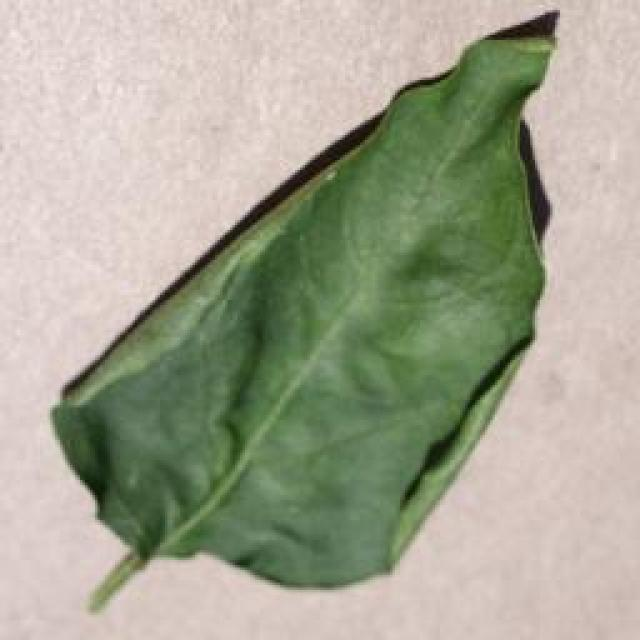Chilli_Healthy: (48, 8, 560, 612)
